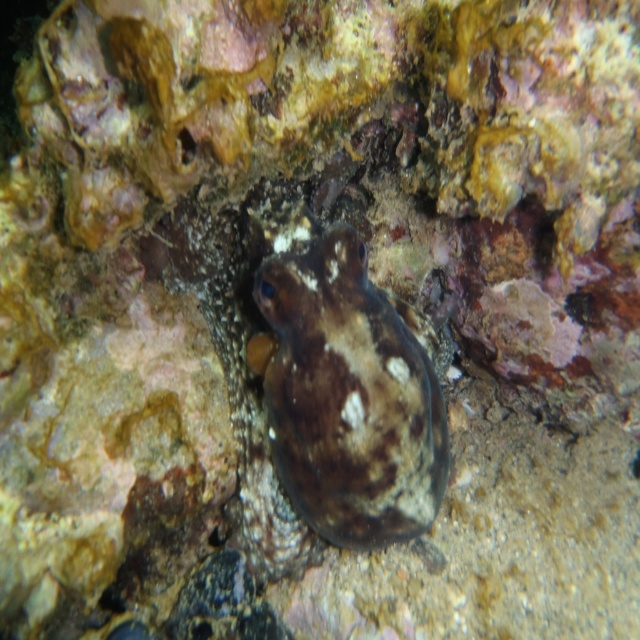Fish: (252, 223, 453, 555)
